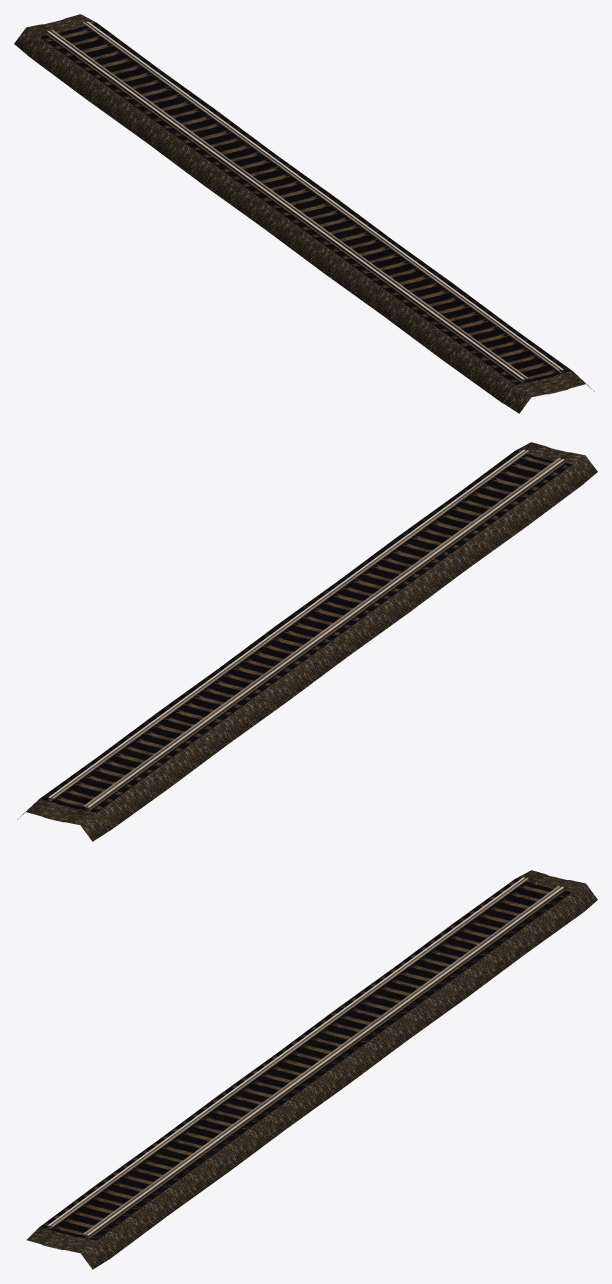
The model's file is KIN_1RAIL_100.glb.
3 views of the same model, one above another, from view 1: azimuth 30°, elevation 25°; view 2: azimuth 150°, elevation 25°; view 3: azimuth 330°, elevation 25° (orthographic).
Visible parts, largest first — view 1: obj1, R000_RG_R, R000_RG_L; view 2: obj1, R000_RG_R, R000_RG_L; view 3: obj1, R000_RG_L, R000_RG_R.
Part boxes in pixels (<box>): obj1: <box>14,14,594,413</box>; R000_RG_R: <box>51,30,527,380</box>; R000_RG_L: <box>83,22,559,371</box>; obj1: <box>17,442,597,841</box>; R000_RG_R: <box>83,458,560,808</box>; R000_RG_L: <box>51,450,528,800</box>; obj1: <box>26,870,597,1269</box>; R000_RG_L: <box>83,885,560,1236</box>; R000_RG_R: <box>51,878,528,1226</box>.
Size of the model in its own units: 10.09 by 2.22 by 106.
6 materials, 5 textured.
